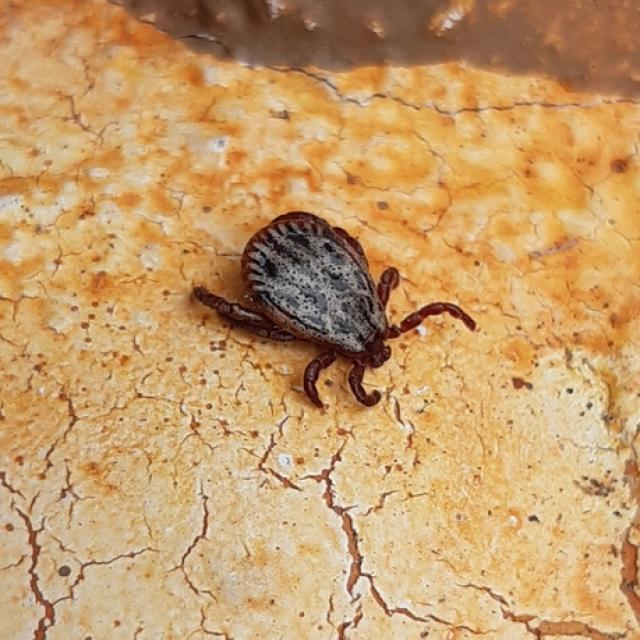Dermacentor Reticulatus-M: (192, 212, 478, 408)
